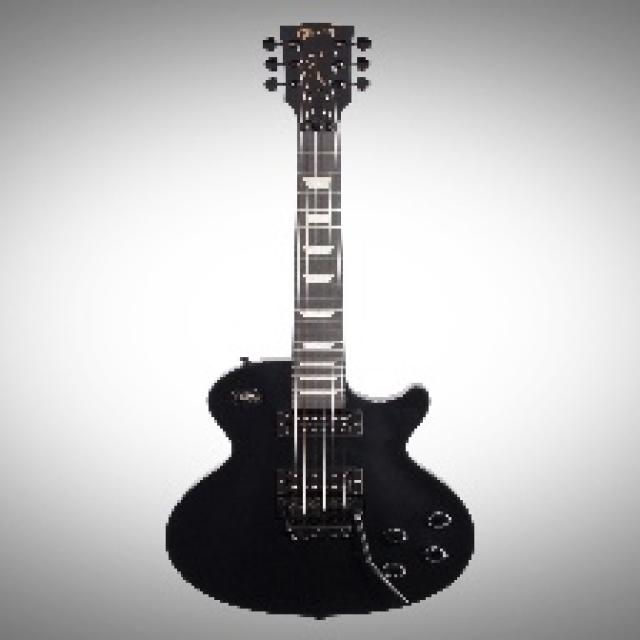guitar: (164, 20, 476, 615)
